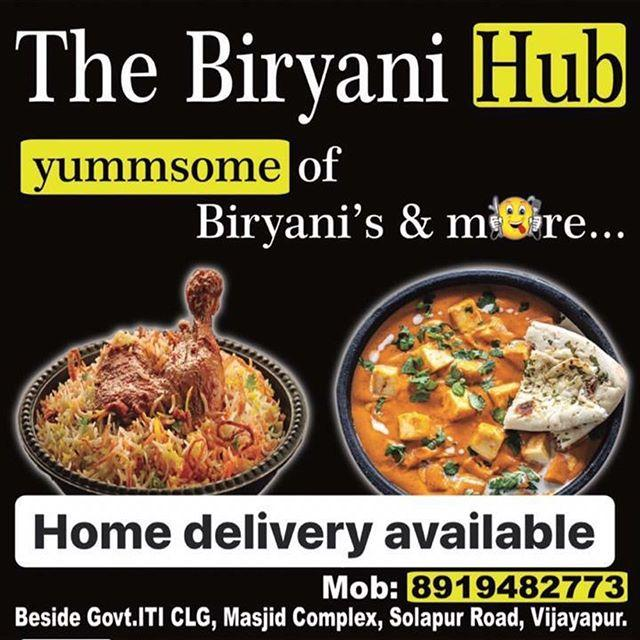Biryani: (40, 326, 285, 489)
Roti: (503, 318, 631, 450)
